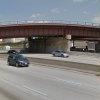Bridge: (2, 13, 99, 49)
